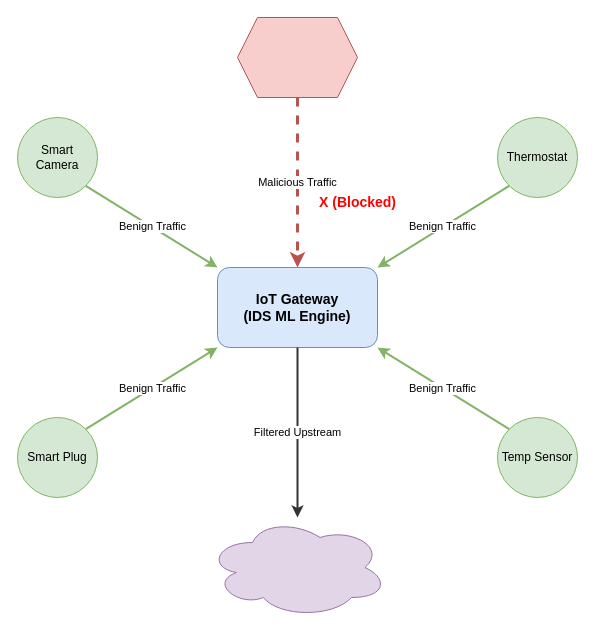
The diagram is 595 pixels wide and 635 high, and some of its shapes have lost their labels. Here are the shapes that lost their labels. From the top down, the centre of each, then its label:
At (297,57): "Attacker (DDoS/Mirai)".
At (297,567): "External Network".
